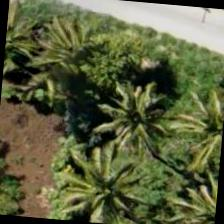Kelapa_Sawit: (86, 67, 184, 165), (25, 0, 124, 93), (59, 141, 157, 223), (171, 74, 223, 169)
